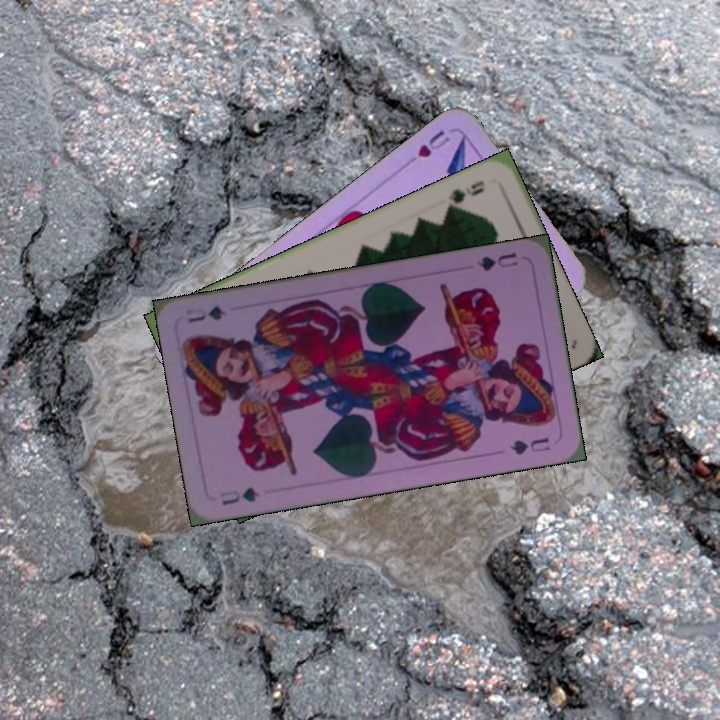G9: (442, 176, 487, 214)
GU: (473, 249, 521, 274), (216, 483, 263, 508)
HU: (413, 126, 453, 161)
